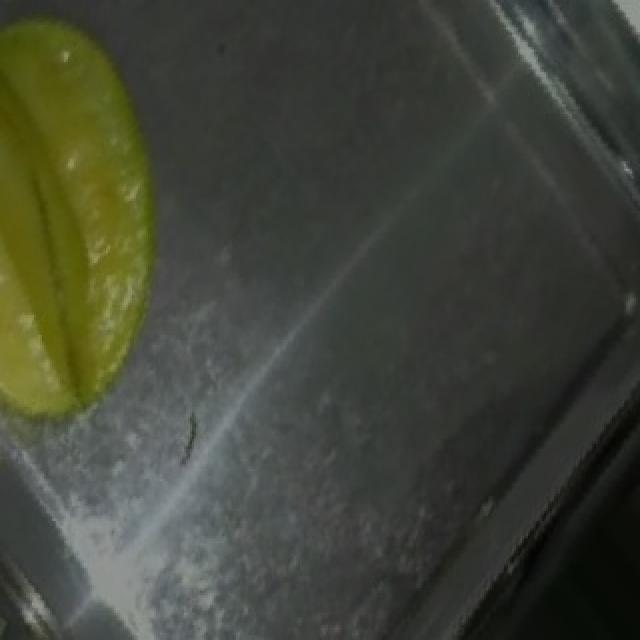fruit: (0, 2, 248, 412)
